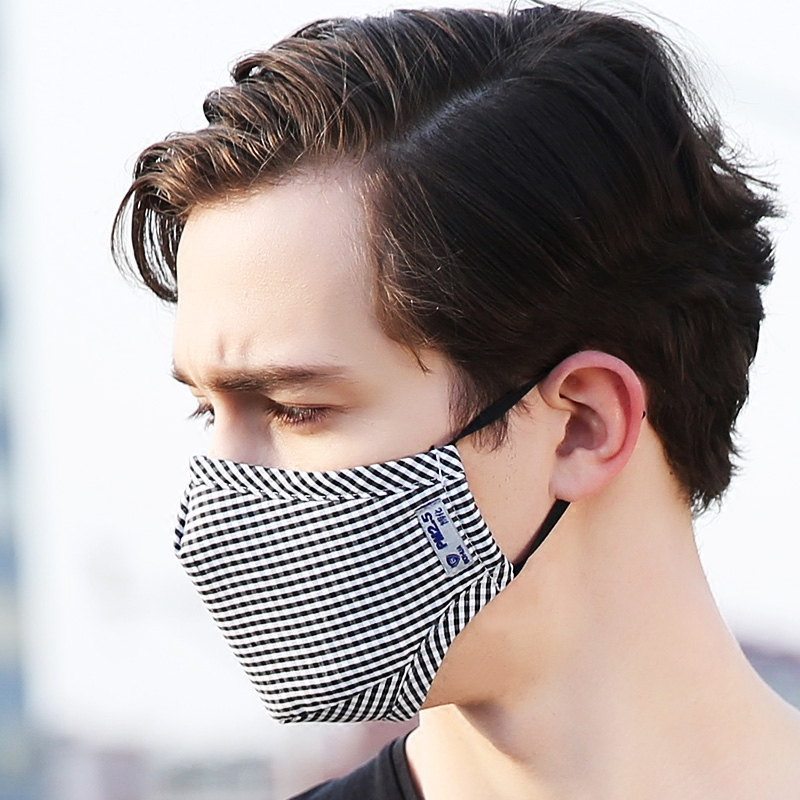face_mask: (155, 174, 505, 703)
